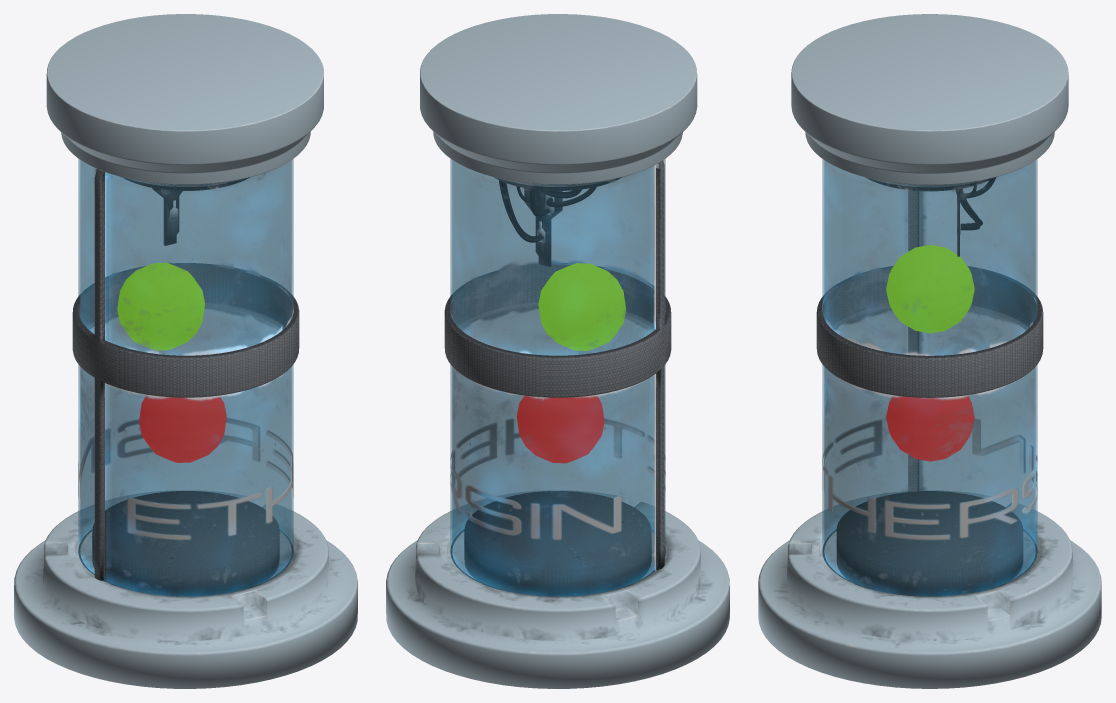
Rendered from reactor.glb.
3 renders of one model, left to right at view 1: azimuth 30°, elevation 25°; view 2: azimuth 150°, elevation 25°; view 3: azimuth 270°, elevation 25°, orthographic.
Parts seen in each view (by area): view 1: tube01, Quadsphere, Quadsphere.001; view 2: tube01, Quadsphere, Quadsphere.001; view 3: tube01, Quadsphere, Quadsphere.001.
Part boxes in pixels (x1,y1,x2,y2): tube01: [14, 14, 357, 688]; Quadsphere: [117, 262, 204, 350]; Quadsphere.001: [139, 395, 226, 462]; tube01: [386, 14, 729, 688]; Quadsphere: [538, 263, 625, 350]; Quadsphere.001: [517, 396, 604, 463]; tube01: [758, 14, 1101, 688]; Quadsphere: [886, 245, 974, 333]; Quadsphere.001: [886, 395, 974, 461].
Size of the model in its own units: 2.57 by 4.49 by 2.57.
6 materials, 4 textured.
